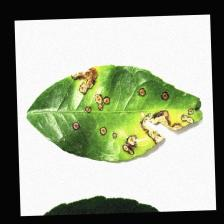greening: (62, 69, 193, 152)
